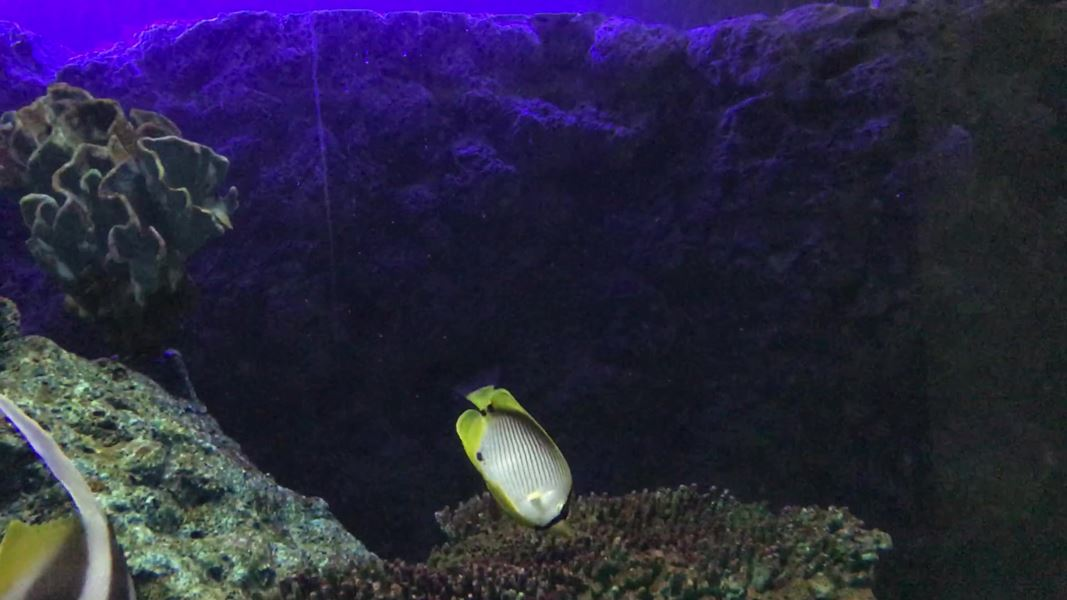Black-backed butterflyfish: (437, 352, 594, 551)
